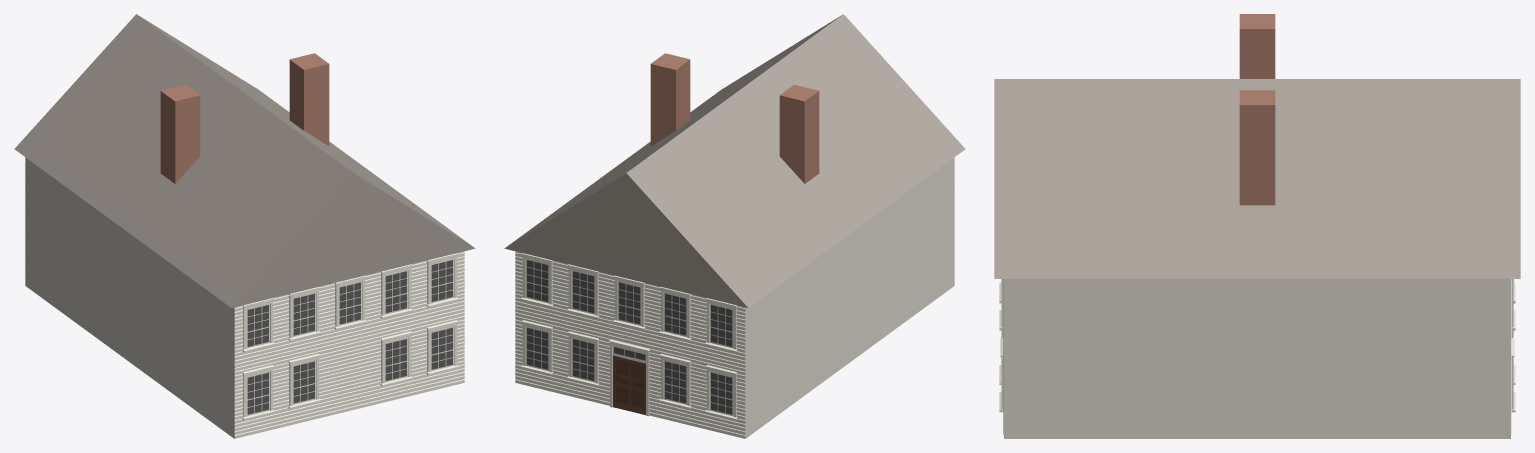
Rendered from recon_1835_north_t1_061__inferred_1835.glb.
3 views of the same model, side by side, from view 1: azimuth 30°, elevation 25°; view 2: azimuth 150°, elevation 25°; view 3: azimuth 270°, elevation 25° (orthographic). The views are drawn at different scales.
Parts seen in each view (by area): view 1: recon_1835_north_t1_061__inferred_1835; view 2: recon_1835_north_t1_061__inferred_1835; view 3: recon_1835_north_t1_061__inferred_1835.
Part boxes in pixels (x1,y1,x2,y2): recon_1835_north_t1_061__inferred_1835: [14, 14, 475, 438]; recon_1835_north_t1_061__inferred_1835: [504, 14, 965, 438]; recon_1835_north_t1_061__inferred_1835: [994, 14, 1520, 438].
Bounding box in the file's own units: 8.7 × 8.75 × 13.4.
